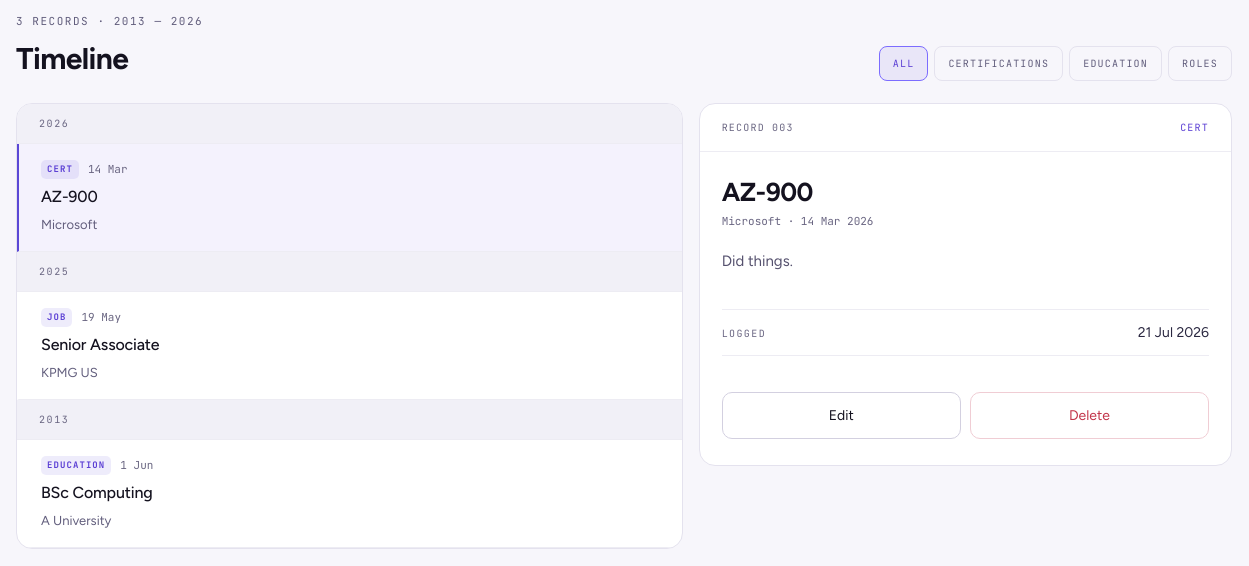
Test: slice 2 review regressions › a deleted record leaves the list immediately, not after the refetch
Expected: the button "CERT 14 Mar AZ-900 Microsoft" is shown, [17, 144, 682, 252]
Step 1. Click the button "Delete" → {"x": 1089, "y": 416}, box [970, 392, 1209, 439]
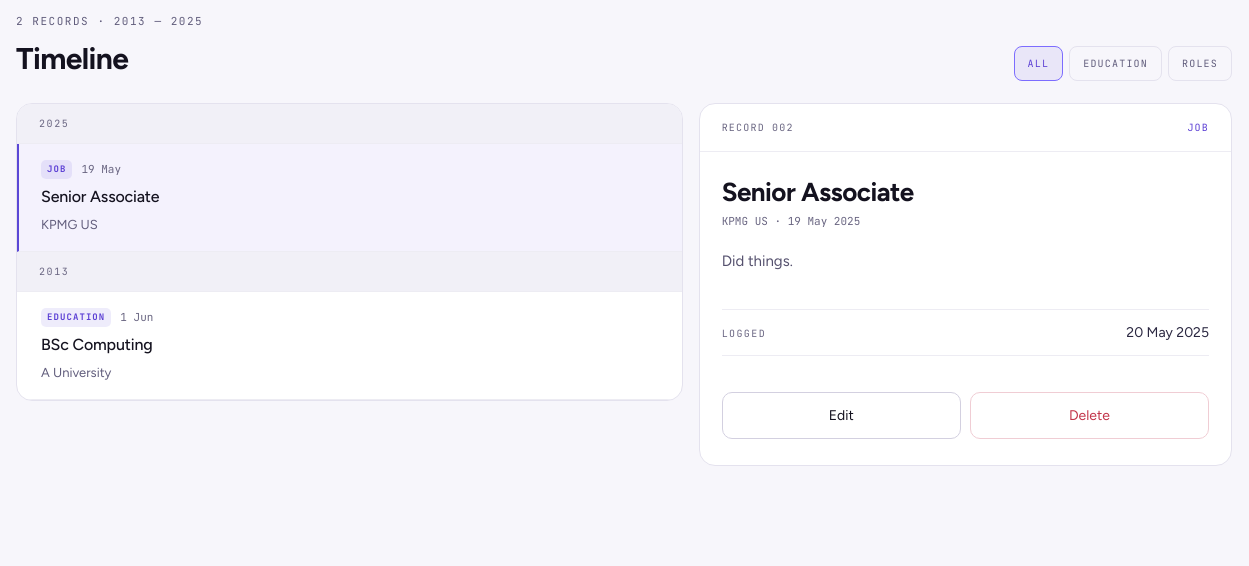
Now the button "AZ-900" is gone
